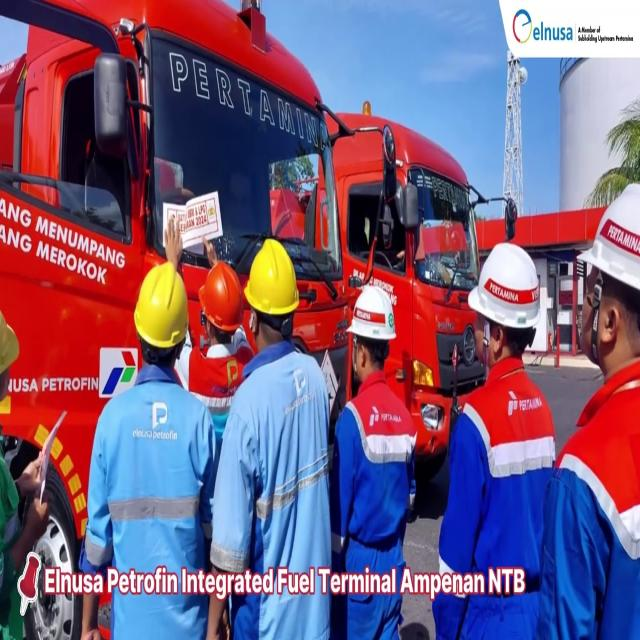Hardhat: (576, 185, 640, 284), (467, 243, 542, 325), (132, 265, 189, 349), (244, 241, 297, 316), (198, 264, 242, 333), (346, 286, 397, 339), (0, 301, 20, 386)
No Glove: (12, 493, 49, 563), (203, 593, 230, 640), (76, 595, 102, 640), (18, 459, 44, 492), (162, 219, 180, 264), (203, 242, 219, 264)
Overall Suit: (436, 356, 556, 640), (539, 354, 640, 640), (330, 369, 417, 640)
Strapped: (592, 266, 602, 351), (480, 315, 492, 362), (351, 333, 359, 373)
